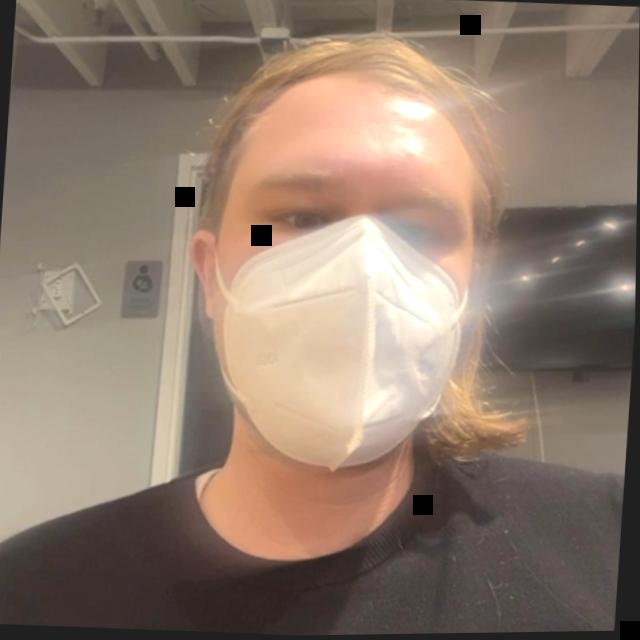Mask: (105, 12, 548, 587)
